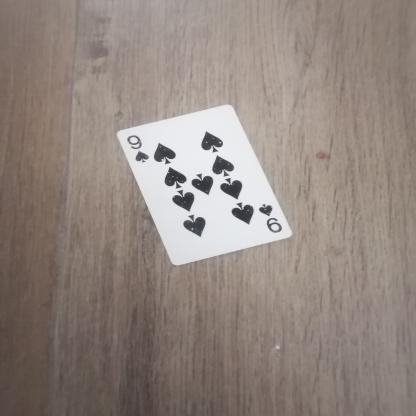9S: (258, 198, 286, 240), (125, 132, 150, 169)
